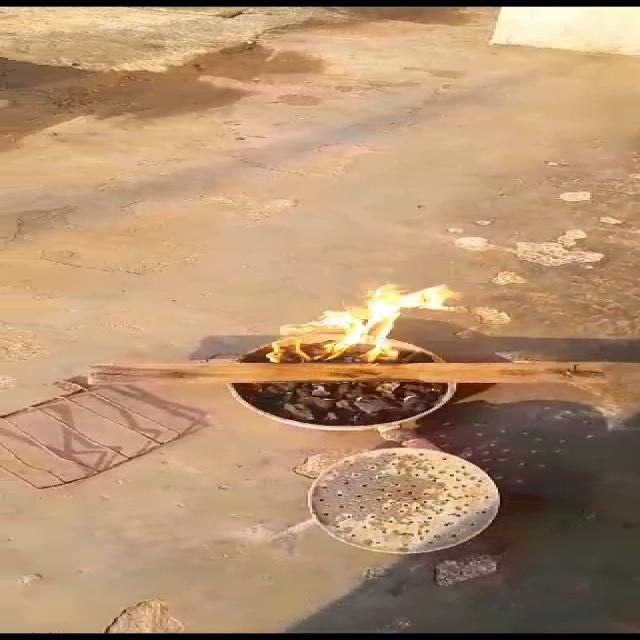Fire: (249, 271, 482, 368)
